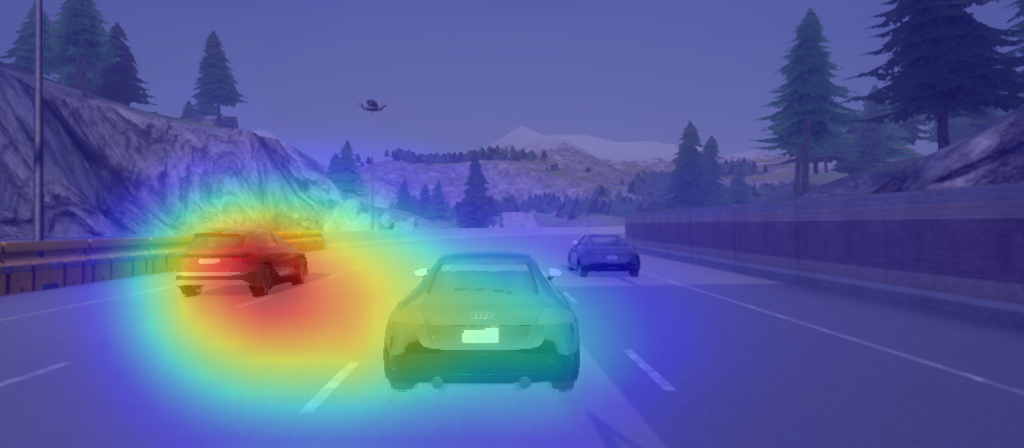Barrier: (678, 205, 1010, 262), (5, 246, 166, 276)
Car: (380, 248, 587, 397), (172, 225, 311, 301), (565, 231, 645, 284)
Lane Marker: (297, 359, 362, 417), (619, 343, 682, 396), (3, 356, 71, 393), (560, 285, 581, 309), (323, 268, 347, 285)
Light Pole: (353, 96, 391, 232), (29, 2, 49, 242)
